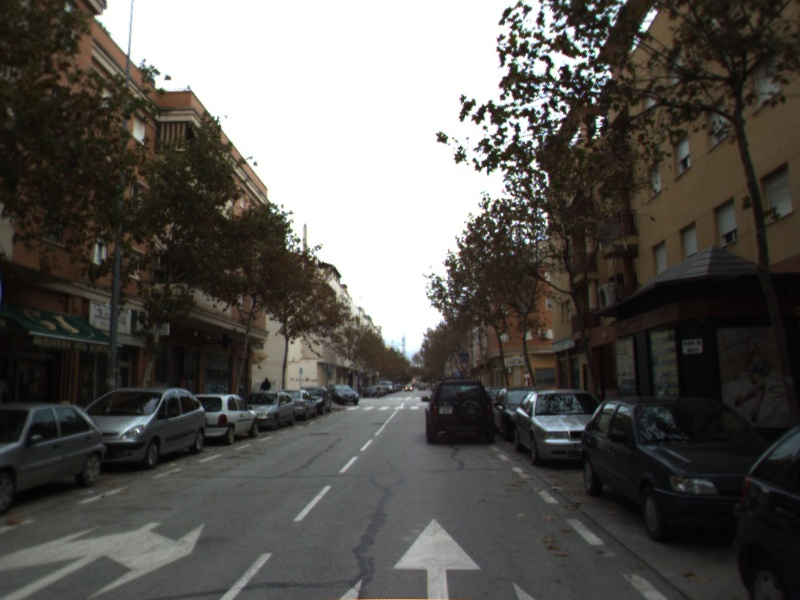STRAIGHT: (389, 513, 487, 600)
